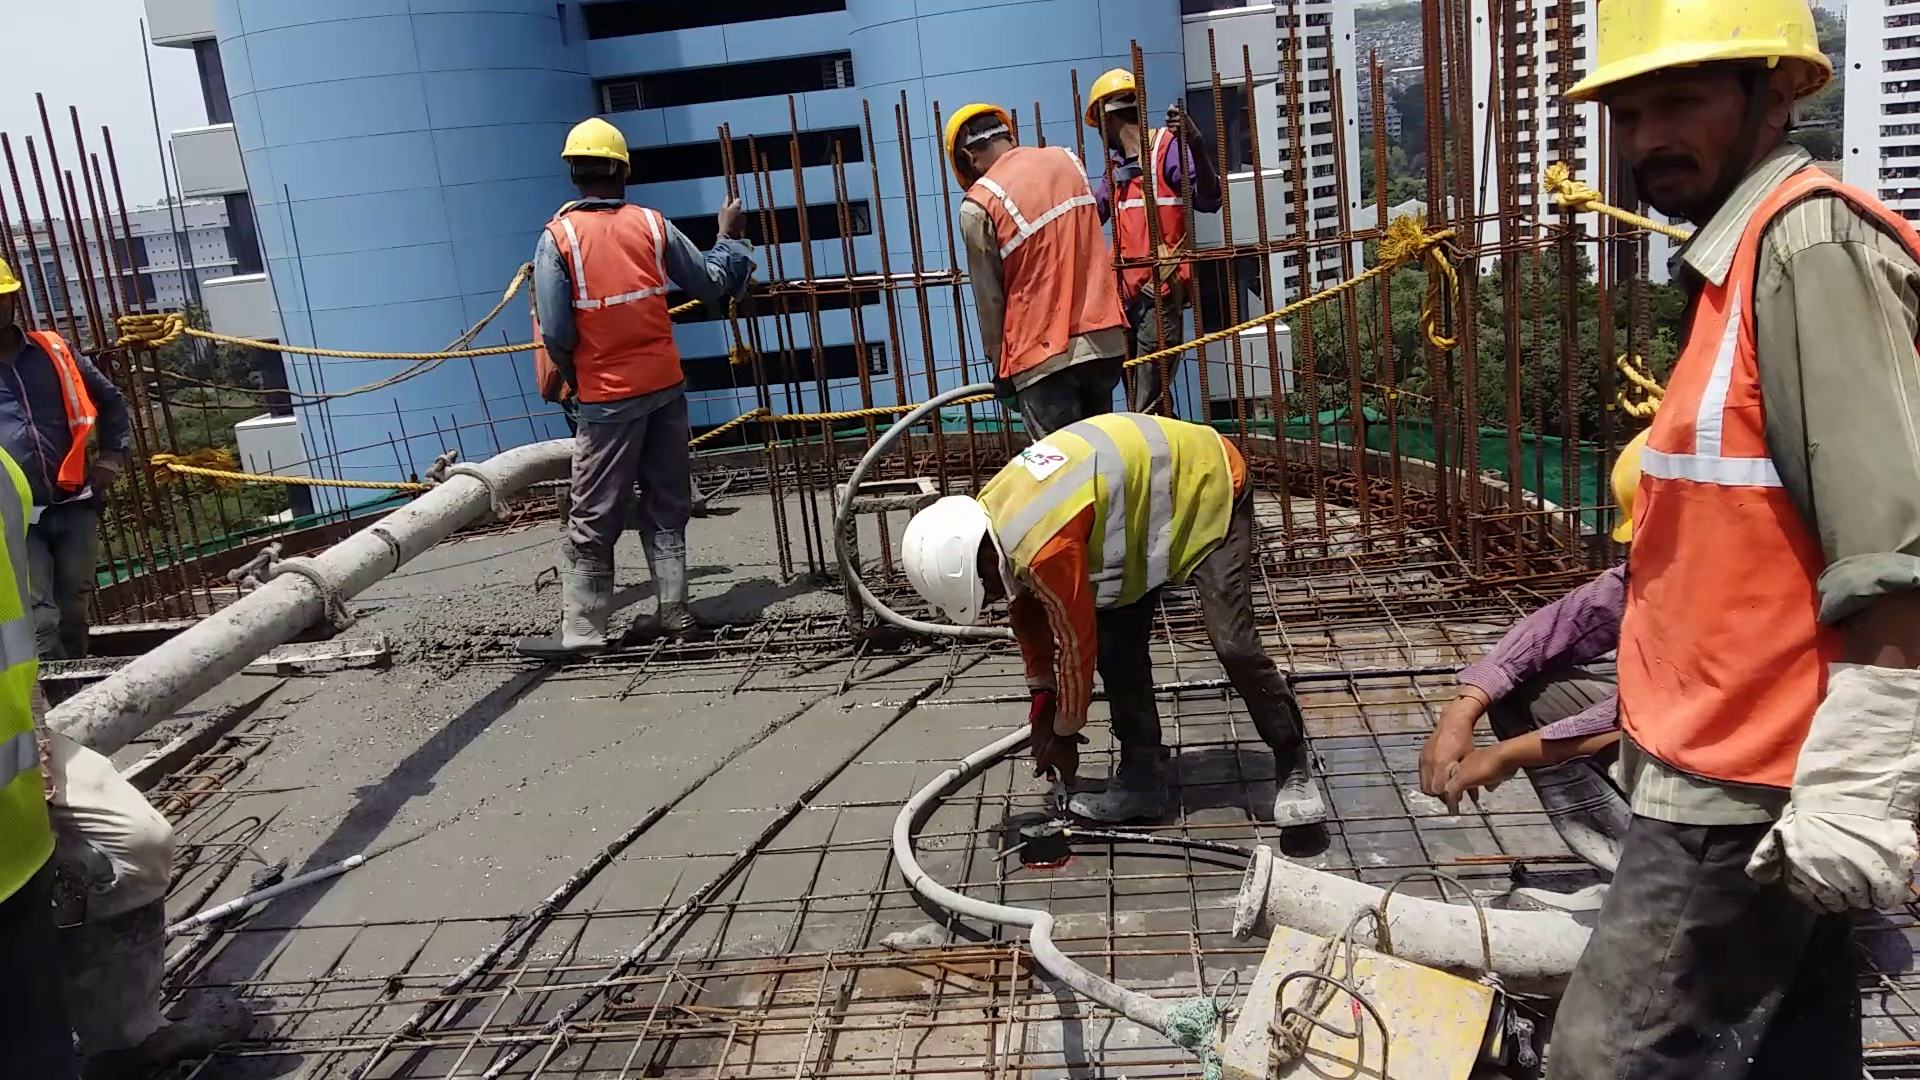SAFE: (1586, 3, 1920, 789), (898, 409, 1242, 628), (942, 107, 1130, 388), (542, 112, 688, 415)
